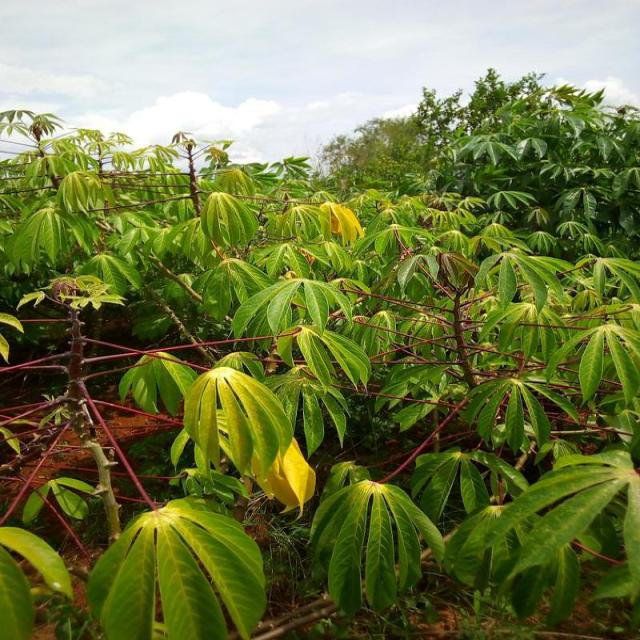cassava leaf: (86, 495, 267, 638), (181, 364, 316, 516), (309, 477, 445, 616), (200, 190, 258, 251)
